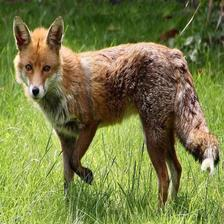fox: (7, 11, 223, 209)
